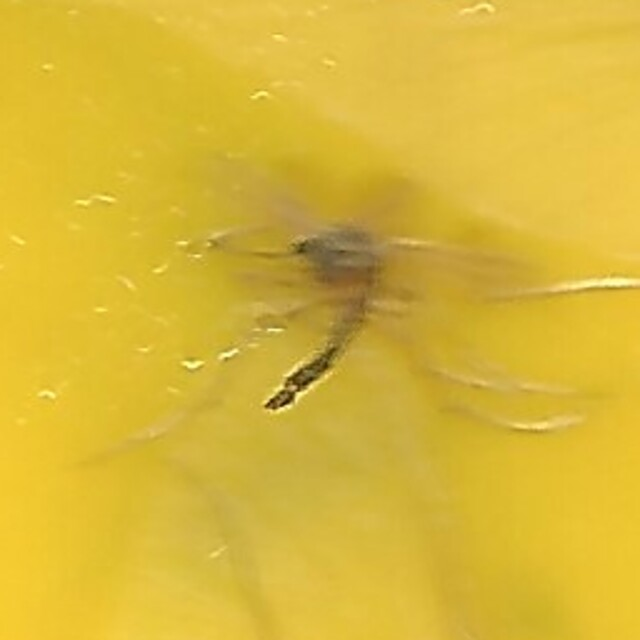Nematocera: (250, 218, 390, 422)
